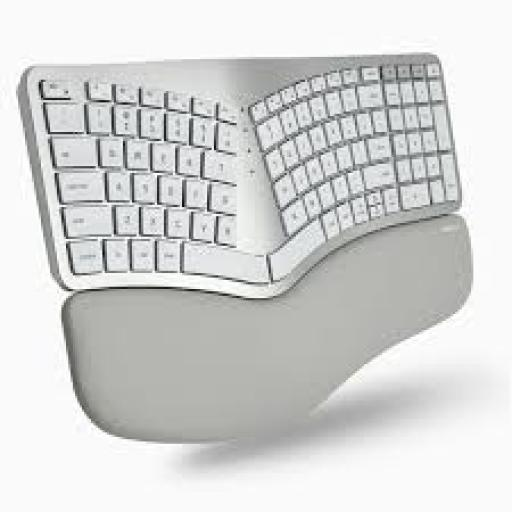keyboard: (20, 55, 469, 439)
